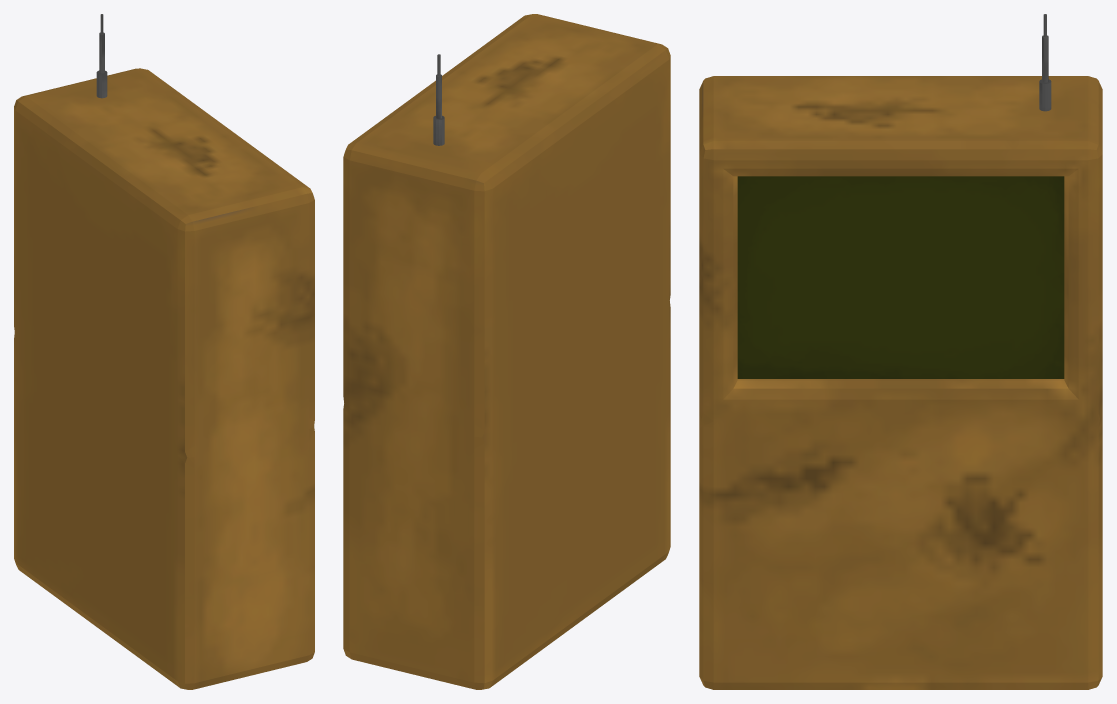
Rendered from detector.glb.
3 views of the same model, side by side, from view 1: azimuth 30°, elevation 25°; view 2: azimuth 150°, elevation 25°; view 3: azimuth 270°, elevation 25° (orthographic). The views are drawn at different scales.
Parts seen in each view (by area): view 1: detector; view 2: detector; view 3: detector.
Part boxes in pixels (x1=…): detector: x1=14, y1=14, x2=314, y2=689; detector: x1=343, y1=14, x2=670, y2=689; detector: x1=699, y1=14, x2=1102, y2=689.
Bounding box in the file's own units: 0.9 × 3.51 × 2.
Materials: 2 (2 with a texture image).
